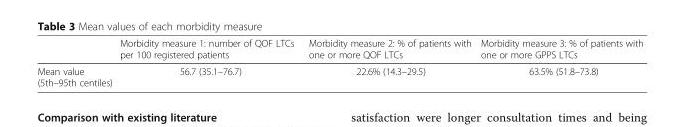table: (36, 37, 642, 87)
table column: (115, 37, 300, 87), (300, 37, 475, 87), (475, 37, 642, 87), (36, 37, 115, 87)
table column header: (36, 37, 642, 62)
table row: (36, 37, 642, 62), (36, 62, 642, 87)
